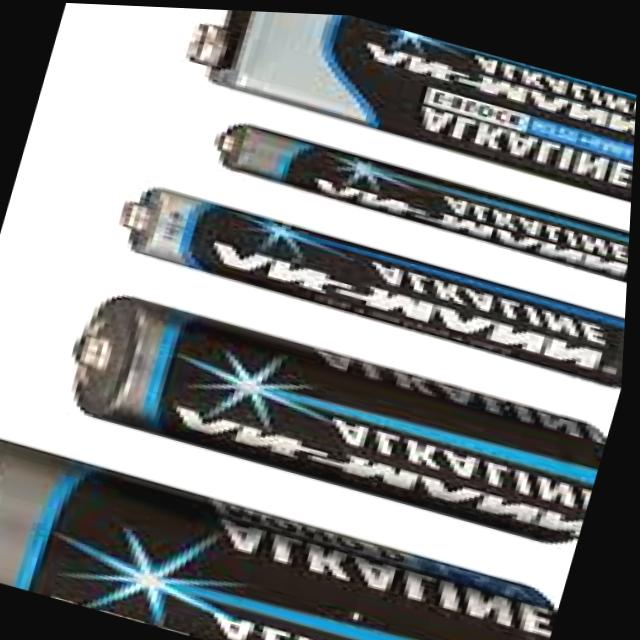B3: (0, 253, 623, 554), (69, 155, 634, 395), (0, 413, 576, 640), (164, 80, 637, 295)
